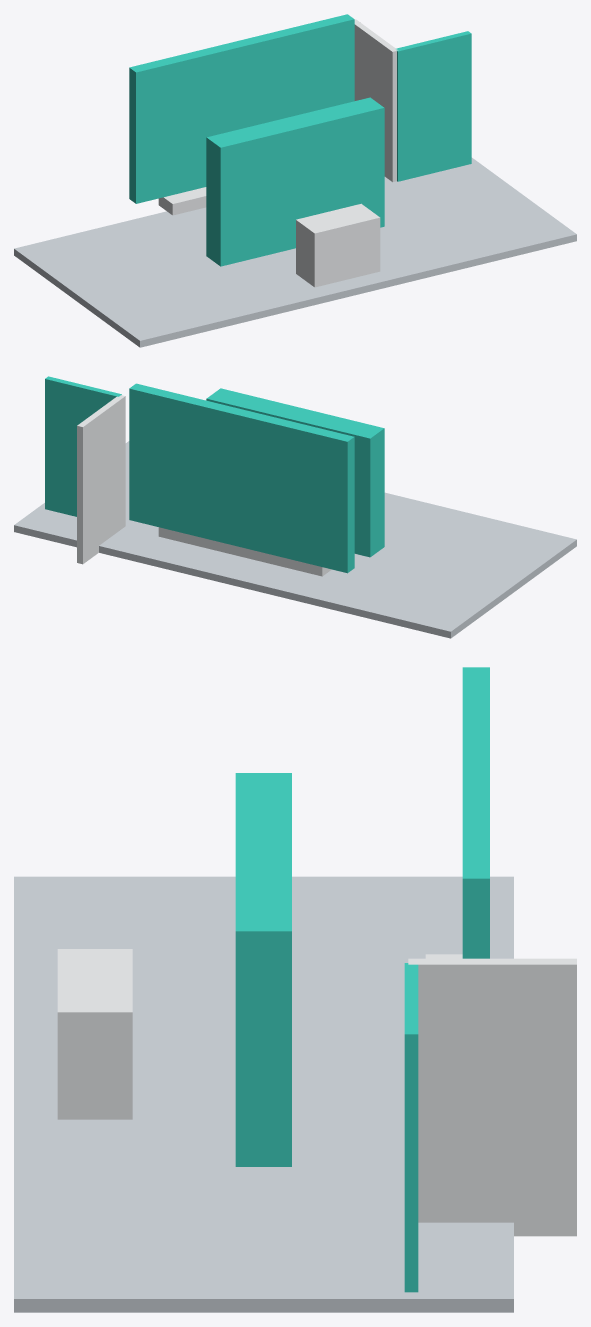
3 renders of one model, top to bottom at view 1: azimuth 30°, elevation 25°; view 2: azimuth 150°, elevation 25°; view 3: azimuth 270°, elevation 25°, orthographic. The views are drawn at different scales.
Visible parts, largest first — view 1: Exhibition Booth Concept; view 2: Exhibition Booth Concept; view 3: Exhibition Booth Concept.
Part boxes in pixels (x1,y1,x2,y2): Exhibition Booth Concept: (14, 14, 576, 347); Exhibition Booth Concept: (14, 376, 576, 638); Exhibition Booth Concept: (14, 667, 576, 1312).
Bounding box in the file's own units: 8 × 2.9 × 4.51.
